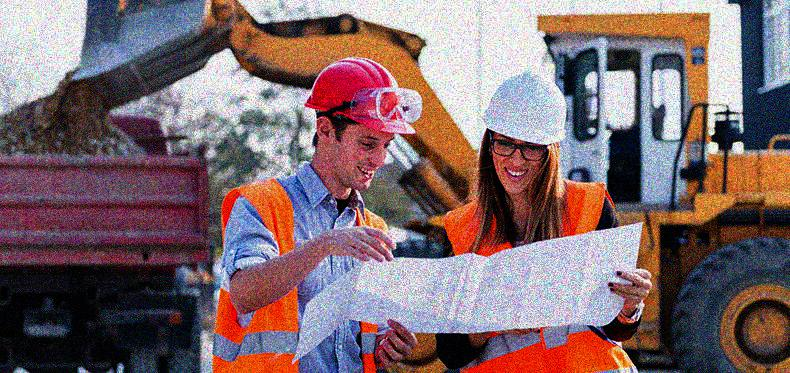helmet: (302, 58, 419, 188), (481, 70, 569, 197)
